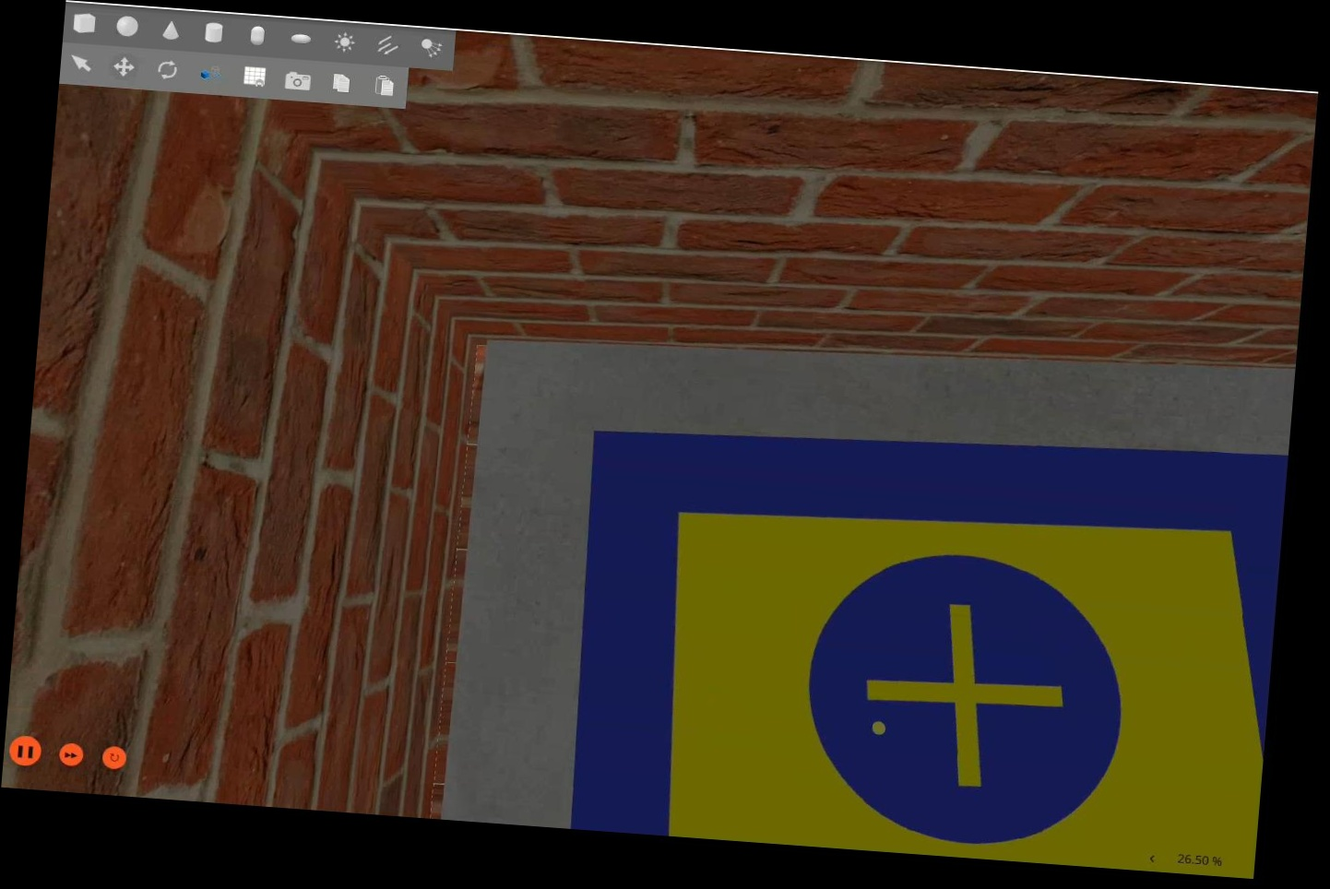large_base: (558, 408, 1289, 884)
